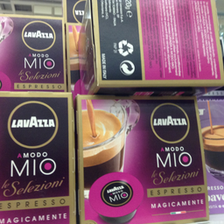coffee: (78, 94, 210, 224), (79, 1, 224, 94), (1, 92, 75, 224), (1, 13, 67, 91)
